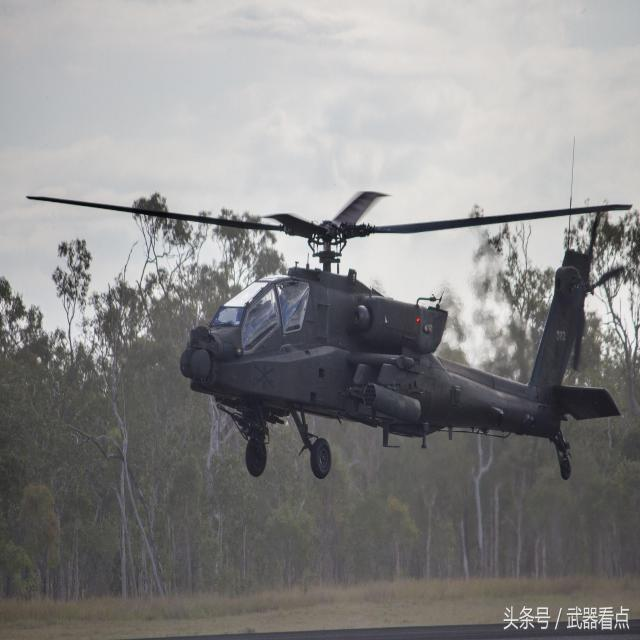MIL_HELO: (18, 148, 640, 508)
